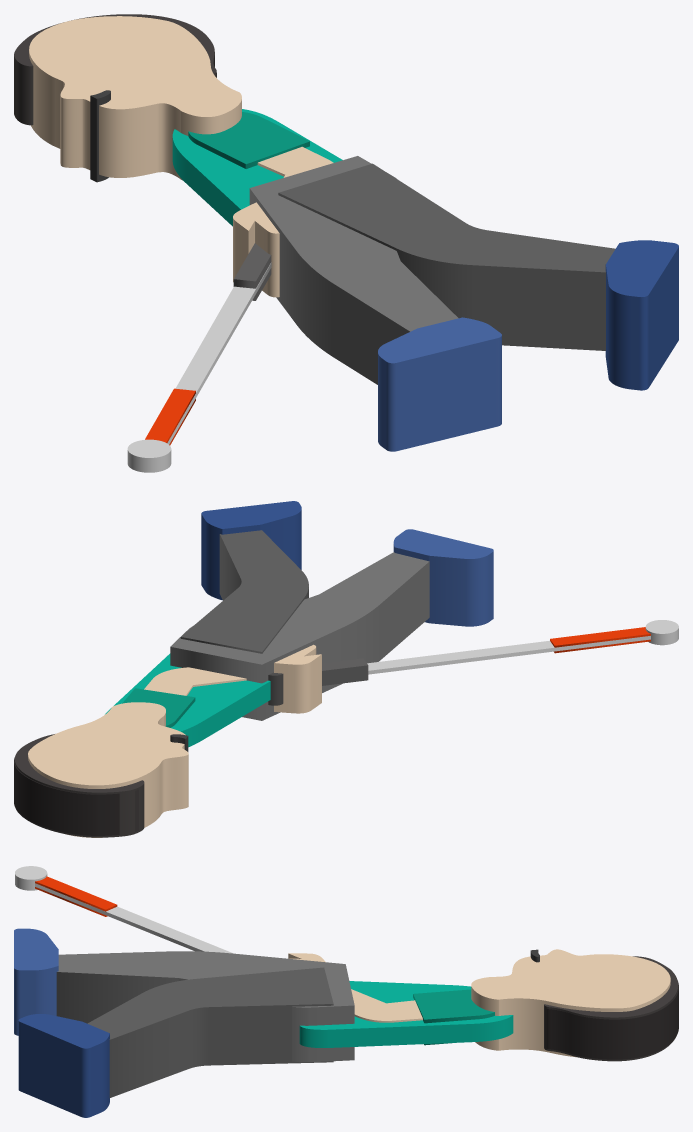
The model's file is emoji_u1f468_1f3fb_200d_1f9af.glb.
3 views of the same model, one above another, from view 1: azimuth 30°, elevation 25°; view 2: azimuth 150°, elevation 25°; view 3: azimuth 270°, elevation 25° (orthographic). The views are drawn at different scales.
Visible parts, largest first — view 1: emoji_u1f468_1f3fb_200d_1f9af; view 2: emoji_u1f468_1f3fb_200d_1f9af; view 3: emoji_u1f468_1f3fb_200d_1f9af.
Boxes of the visible parts, box(x1,y1,x2,y2) form: emoji_u1f468_1f3fb_200d_1f9af: box(14, 14, 678, 472); emoji_u1f468_1f3fb_200d_1f9af: box(14, 501, 678, 837); emoji_u1f468_1f3fb_200d_1f9af: box(14, 866, 678, 1117).
Size of the model in its own units: 0.0249 by 0.0038 by 0.033.
